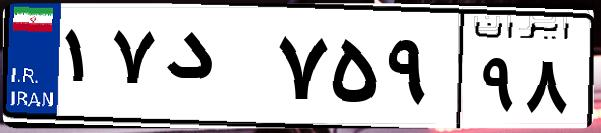1: (57, 26, 110, 100)
5: (330, 28, 385, 110)
7: (270, 28, 330, 110), (110, 28, 158, 98)
8: (525, 38, 570, 115)
9: (385, 28, 445, 110), (475, 38, 525, 113)
د: (158, 20, 270, 120)
